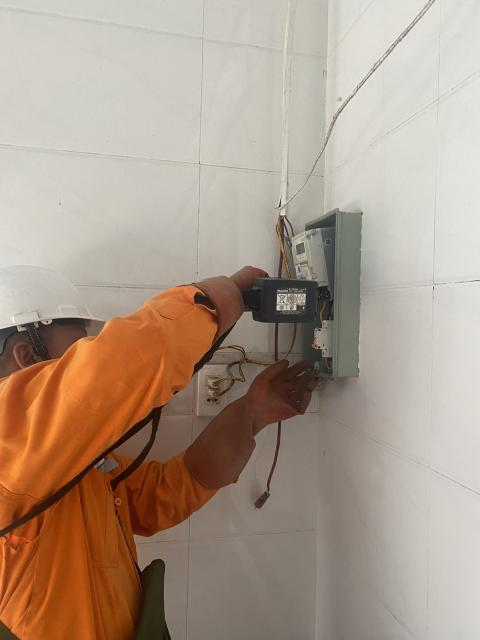gloves: (159, 352, 331, 506), (181, 260, 296, 352)
helmet: (0, 247, 145, 374)
